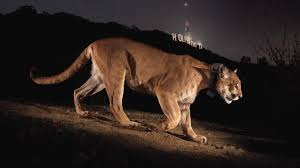Mountain Lion: (98, 47, 251, 145)
